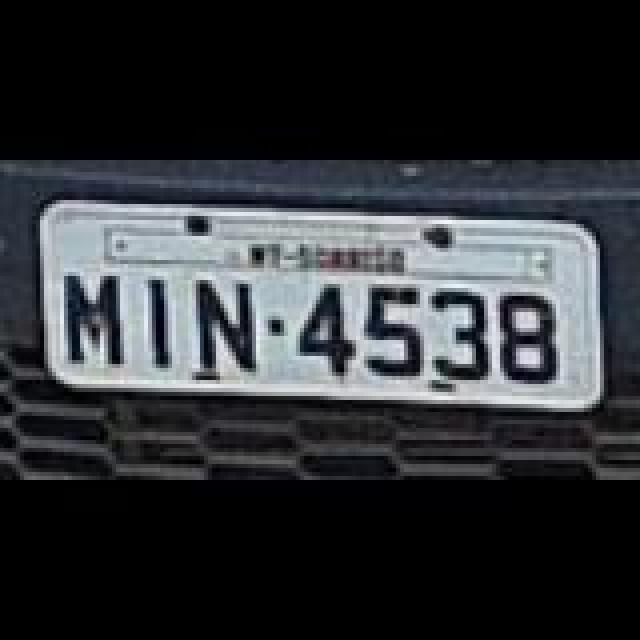1: (146, 278, 174, 370)
3: (434, 290, 494, 382)
4: (300, 286, 356, 378)
5: (366, 284, 426, 380)
8: (502, 294, 562, 386)
M: (66, 272, 126, 368)
N: (196, 280, 260, 376)
